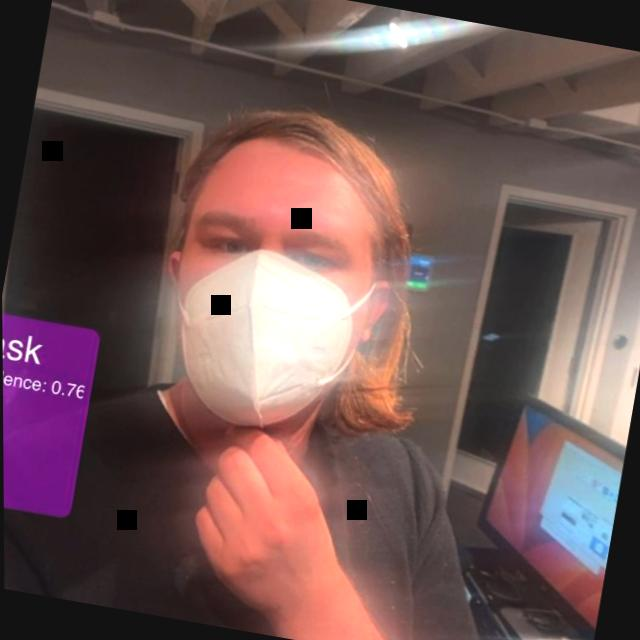Mask: (116, 80, 431, 470)
